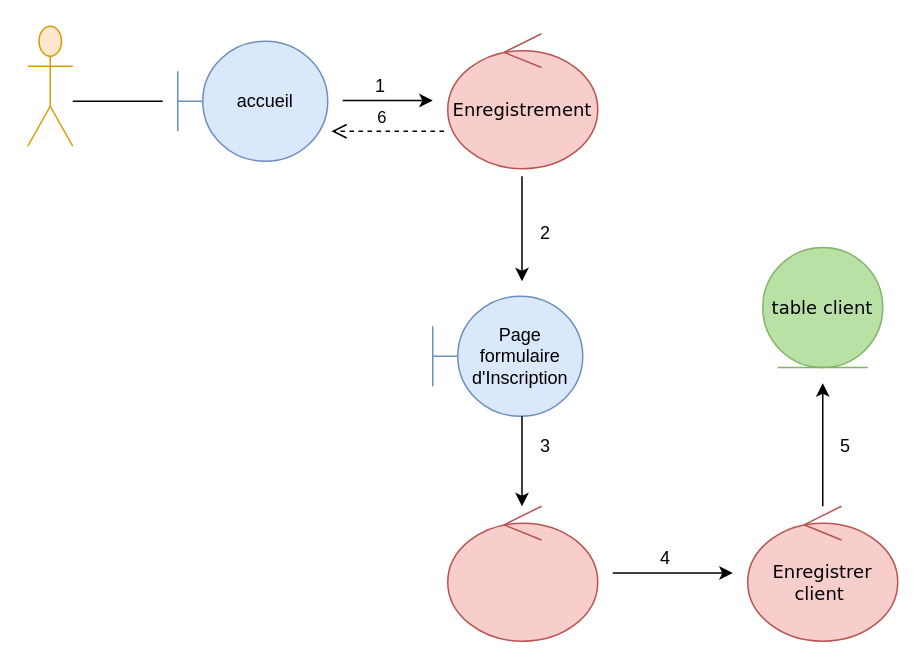
This 924x668 diagram has some shape labels left out. Each missing label, with the centre of its shape:
"client" goes at (49,85).
"valider formulaire d'inscription" goes at (522,573).
